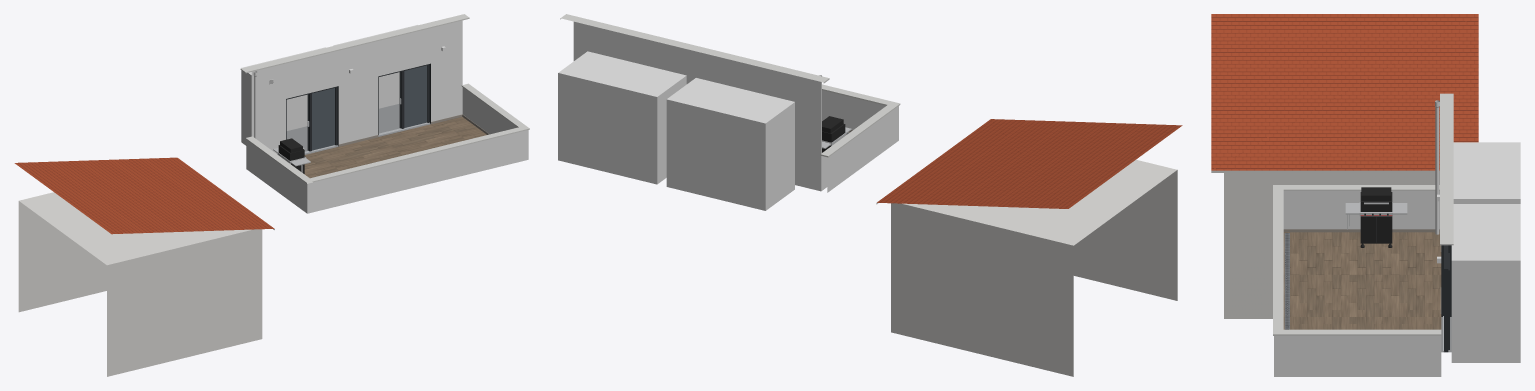
The model's file is sala.glb.
The picture shows the model from 3 angles, left to right: view 1: azimuth 30°, elevation 25°; view 2: azimuth 150°, elevation 25°; view 3: azimuth 270°, elevation 25°; orthographic projection. The views are drawn at different scales.
Visible parts, largest first — view 1: Sala, Chao, Vidro, Objetos; view 2: Sala, Objetos; view 3: Sala, Chao, Objetos.
Part boxes in pixels (box(x1,y1,x2,y2)): Sala: box(14, 14, 529, 376); Chao: box(304, 117, 486, 178); Vidro: box(312, 65, 427, 150); Objetos: box(253, 46, 445, 173); Sala: box(558, 14, 1182, 376); Objetos: box(819, 75, 851, 153); Sala: box(1211, 14, 1520, 376); Chao: box(1283, 232, 1441, 329); Objetos: box(1284, 100, 1449, 352).
Size of the model in its own units: 16.75 by 7.04 by 7.4.
18 materials, 3 textured.
